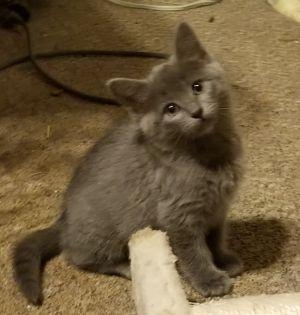rblue: (105, 22, 236, 158)
